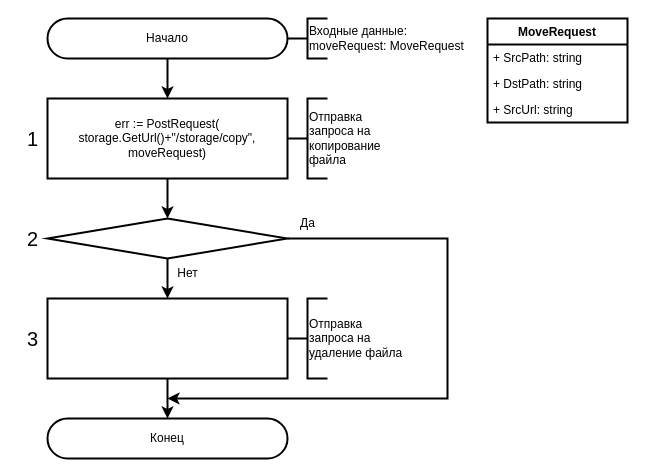
Some shapes in this 645 by 476 pixel diagram are drawn without their labels. The shapes that lost their labels are listed below. From the top down, each one's box as (x1, y1, x2, y2) in pixels, then its label:
(46, 217, 288, 259): err
(46, 297, 288, 379): PostRequest( moveRequest.SrcUrl+"/storage/delete", moveRequest.SrcPath)
